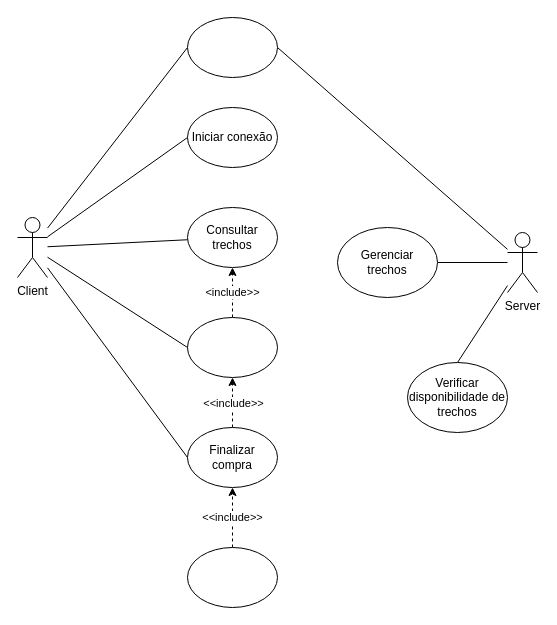
This 557x625 diagram has some shape labels left out. Here are the shapes that lost their labels. From the top down, the centre of each, then its label:
the point at 232,47: Finalizar conexão
the point at 232,347: Selecionar trechos
the point at 232,577: Cancelar compra
